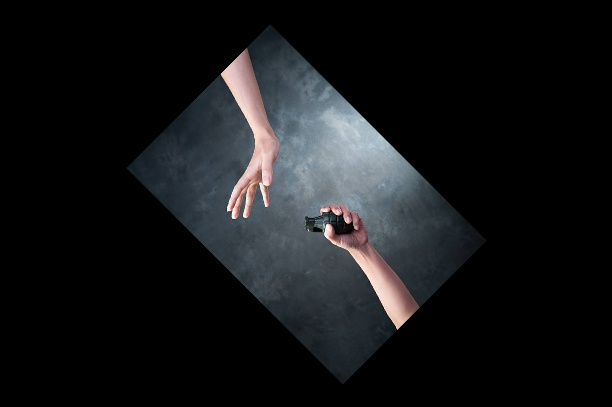e1: (301, 206, 362, 237)
